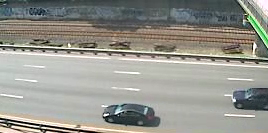car: (102, 103, 157, 127), (230, 86, 268, 110)
